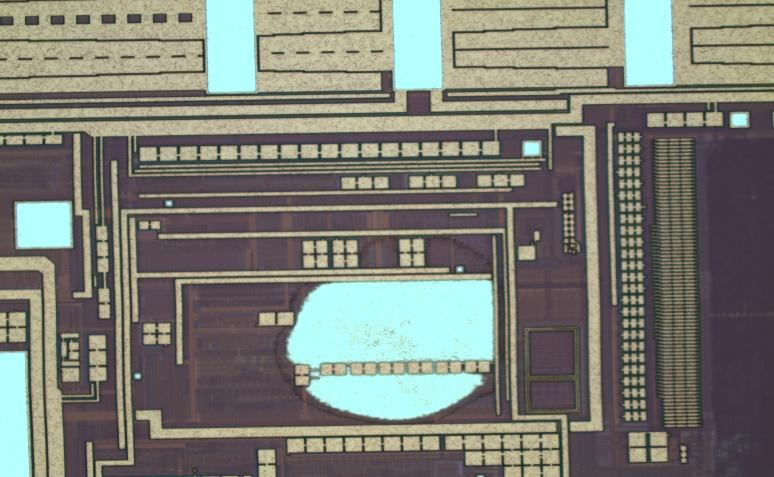BLOCK ETCH: (272, 229, 515, 430)
